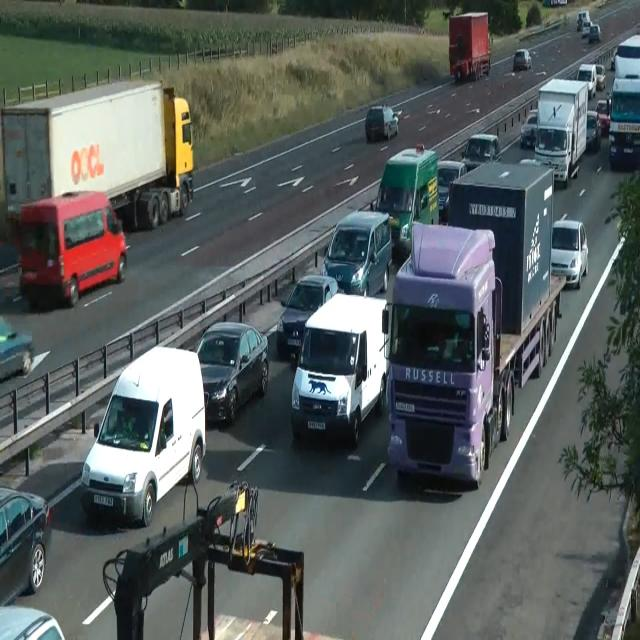bus: (192, 320, 268, 426), (0, 486, 50, 606), (276, 274, 340, 359), (0, 313, 34, 381), (0, 604, 66, 639), (436, 159, 466, 213), (460, 132, 500, 172), (364, 104, 398, 141), (585, 109, 601, 152), (520, 110, 538, 148), (595, 100, 611, 134), (513, 48, 531, 71), (595, 63, 606, 90), (577, 10, 591, 31), (588, 24, 602, 43), (580, 20, 592, 38), (610, 46, 618, 70), (542, 0, 568, 6)
car: (102, 478, 304, 638)
jeep: (80, 343, 206, 527), (290, 292, 390, 447), (18, 190, 128, 308), (321, 208, 393, 297), (550, 218, 588, 289), (576, 62, 596, 98)
minibus: (384, 159, 566, 489), (0, 77, 194, 233), (446, 159, 554, 335), (371, 142, 439, 259), (534, 77, 588, 187), (608, 76, 640, 170), (448, 10, 490, 81), (614, 33, 640, 78)
